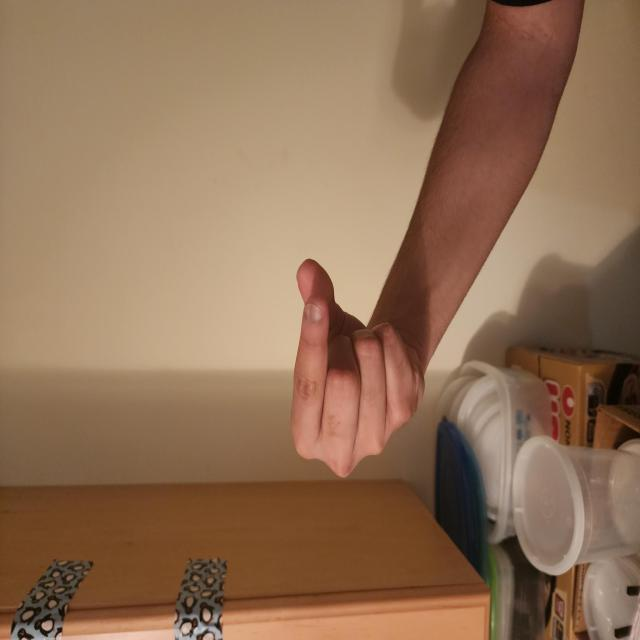G: (116, 382, 290, 572)
